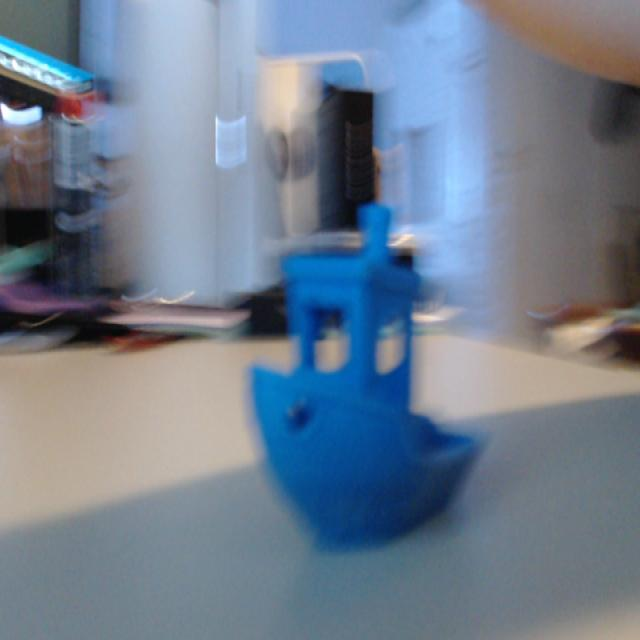benchy: (246, 199, 487, 549)
